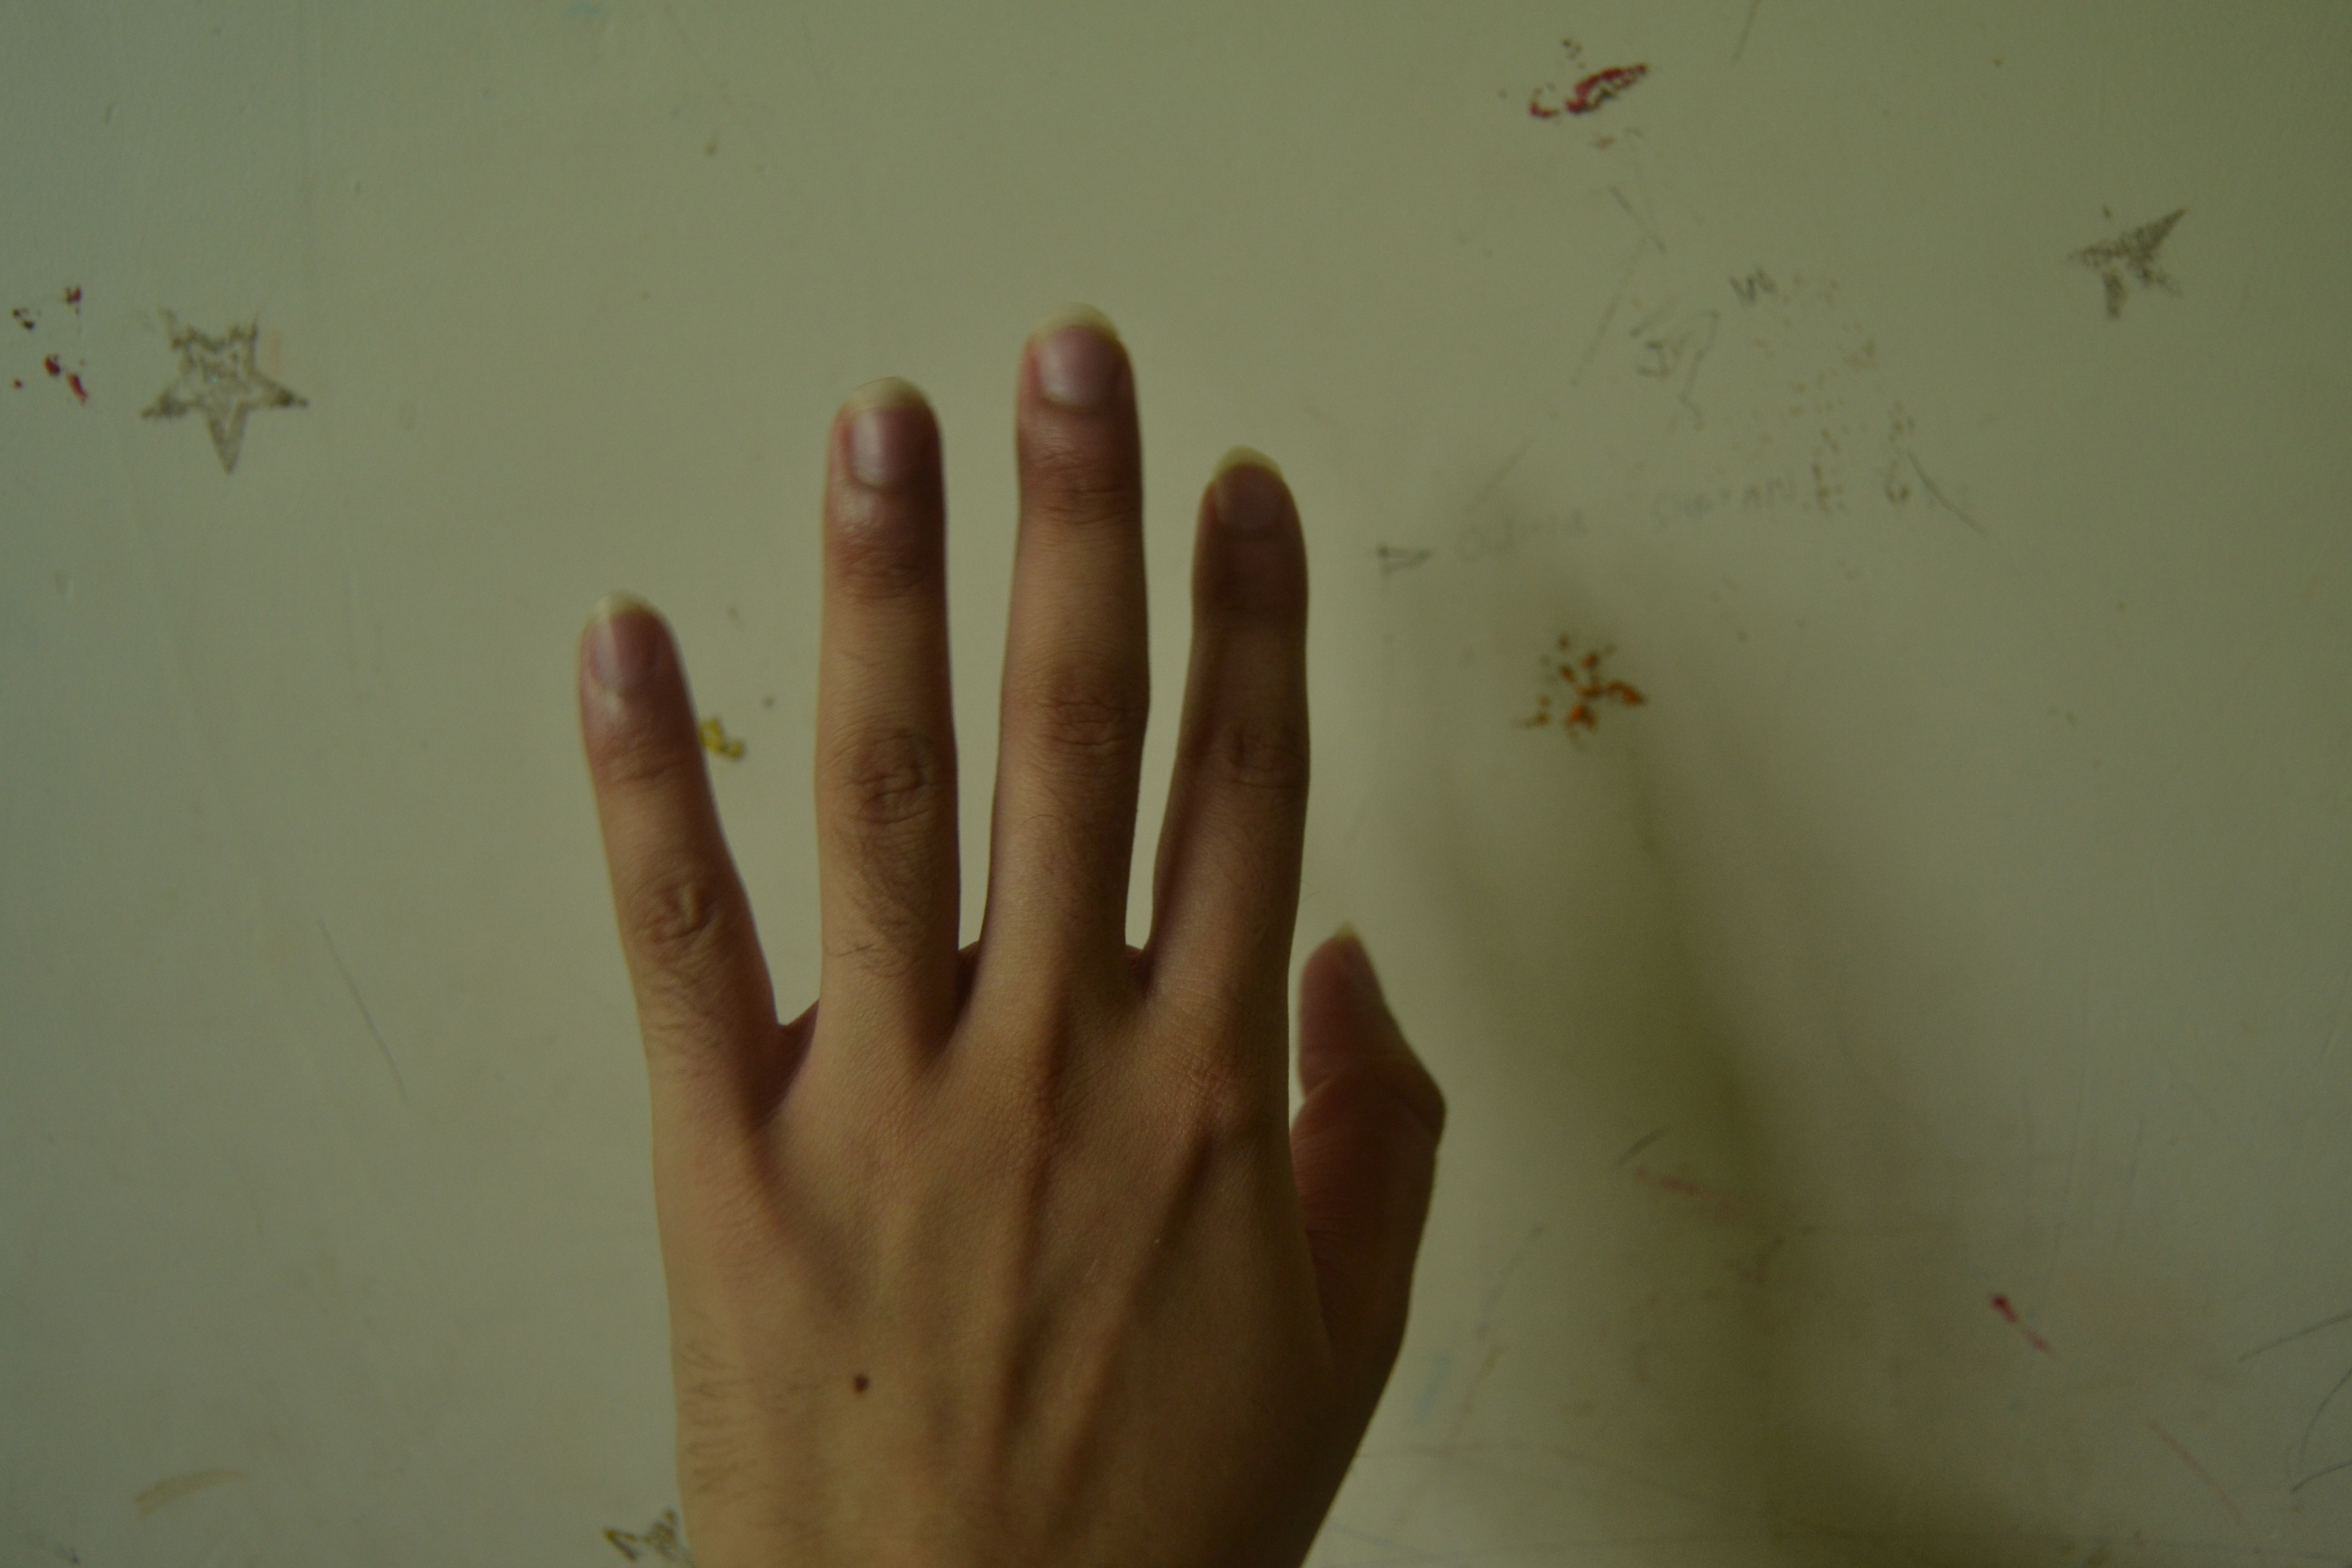move: (516, 294, 1577, 1543)
